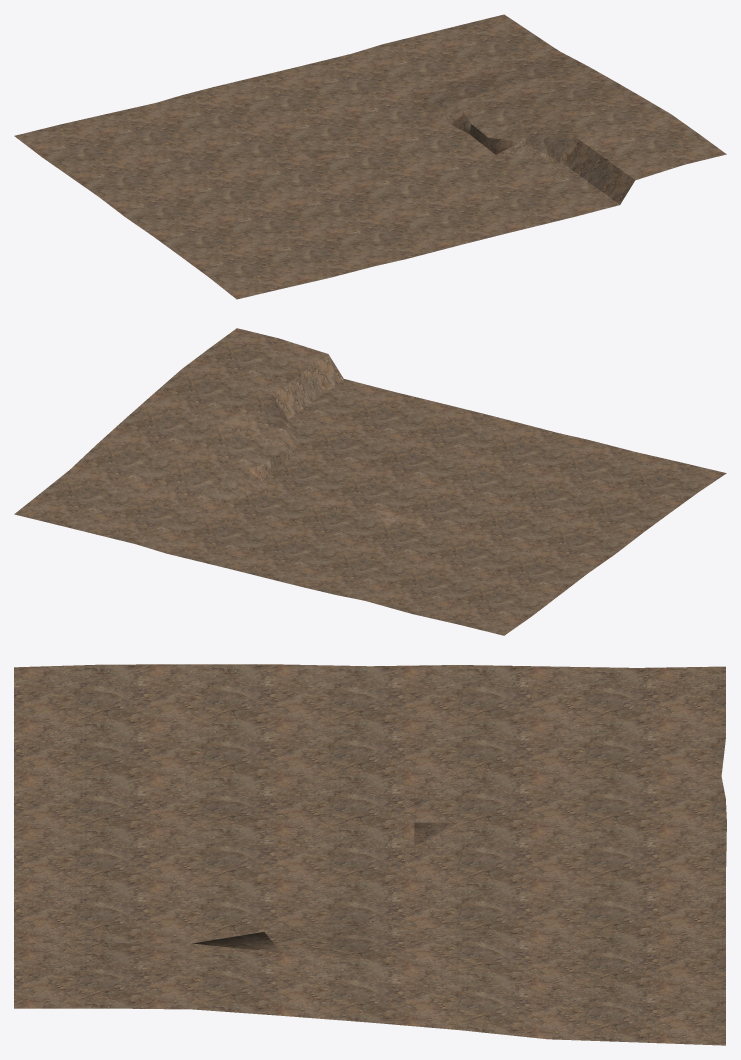
File: Terrain03_LostTemple_001.FBX
3 renders of one model, top to bottom at view 1: azimuth 30°, elevation 25°; view 2: azimuth 150°, elevation 25°; view 3: azimuth 270°, elevation 25°, orthographic. The views are drawn at different scales.
Parts seen in each view (by area): view 1: Terrain03_LostTemple_001; view 2: Terrain03_LostTemple_001; view 3: Terrain03_LostTemple_001.
Boxes of the visible parts, x1=… form: Terrain03_LostTemple_001: x1=14, y1=14, x2=726, y2=299; Terrain03_LostTemple_001: x1=14, y1=328, x2=726, y2=635; Terrain03_LostTemple_001: x1=14, y1=664, x2=726, y2=1045.
Size of the model in its own units: 8549 by 443 by 6742.
